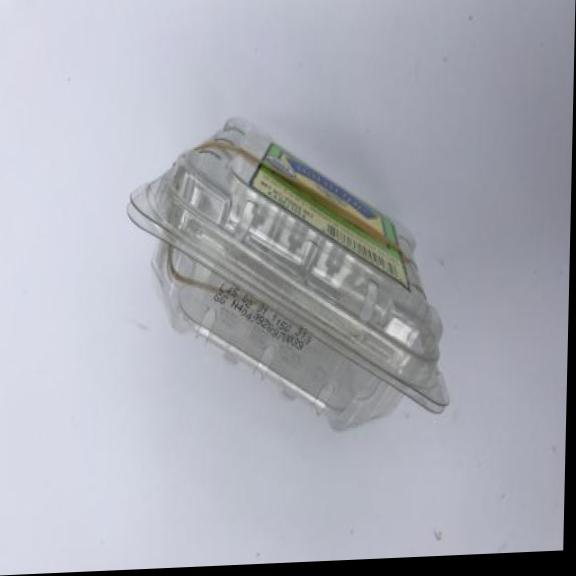Plastik: (119, 100, 460, 448)
